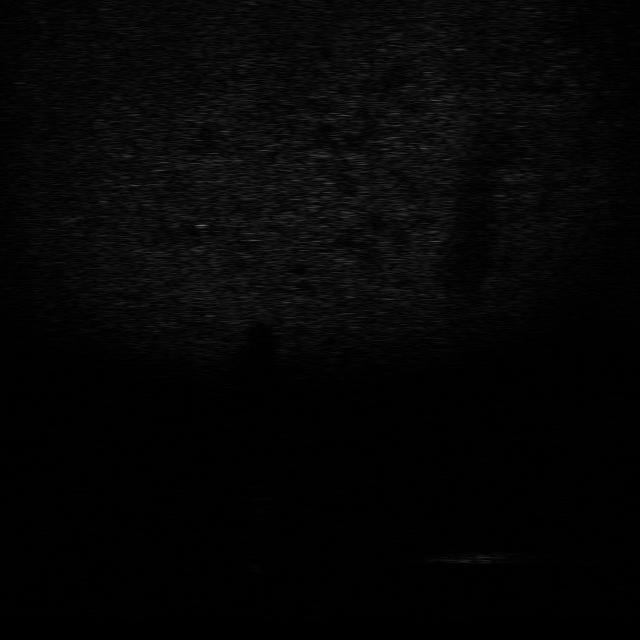ball: (235, 479, 279, 504)
metal bucket: (430, 543, 520, 569)
tyre: (246, 542, 299, 576)
